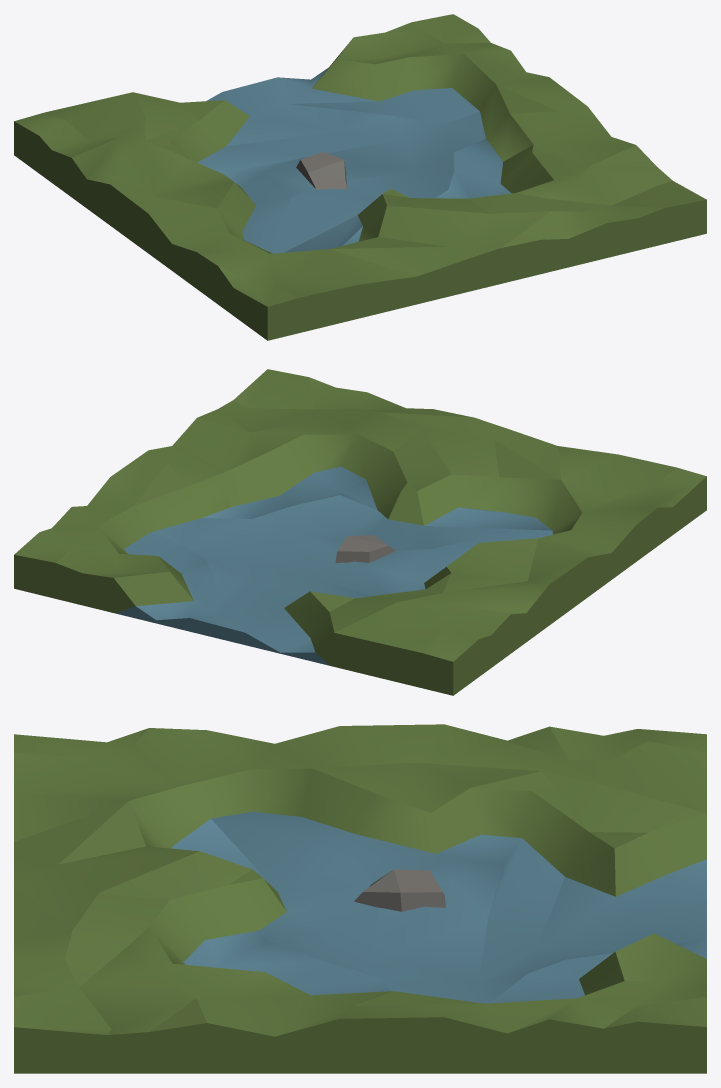
File: Water_River_Ending_B.glb
3 renders of one model, top to bottom at view 1: azimuth 30°, elevation 25°; view 2: azimuth 150°, elevation 25°; view 3: azimuth 270°, elevation 25°, orthographic. The views are drawn at different scales.
Visible parts, largest first — view 1: Water_River_Ending_B; view 2: Water_River_Ending_B; view 3: Water_River_Ending_B.
Part boxes in pixels (x1,y1,x2,y2): Water_River_Ending_B: (14,14,706,340); Water_River_Ending_B: (14,369,706,695); Water_River_Ending_B: (14,724,706,1073).
Size of the model in its own units: 1.47 by 0.142 by 1.47.
